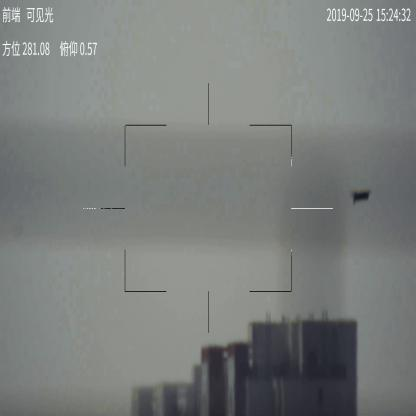uav: (351, 188, 371, 207)
